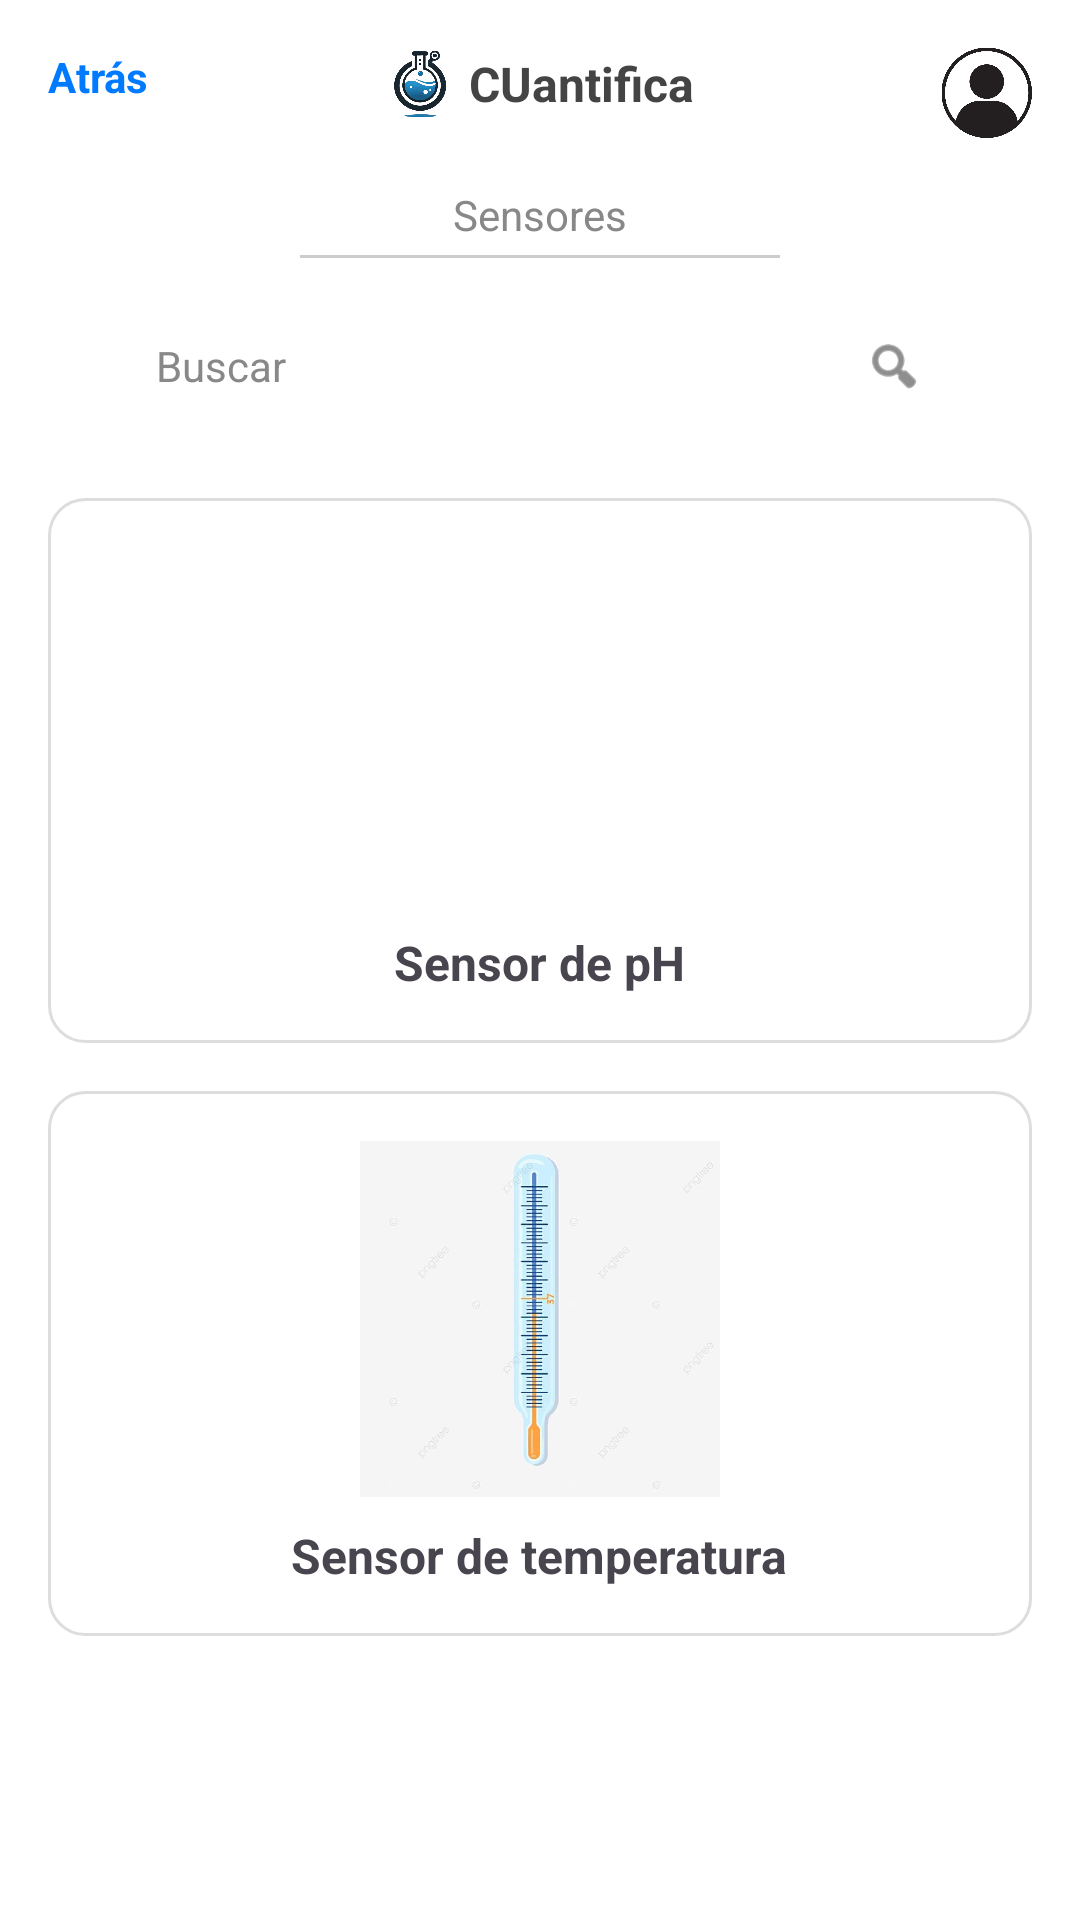

Screen size 1080px x 1920px. Icon name, then its box in pixels as bbox(x1, y1, x2, y2):
search: bbox(872, 344, 916, 389)
usuario: bbox(942, 48, 1032, 138)
